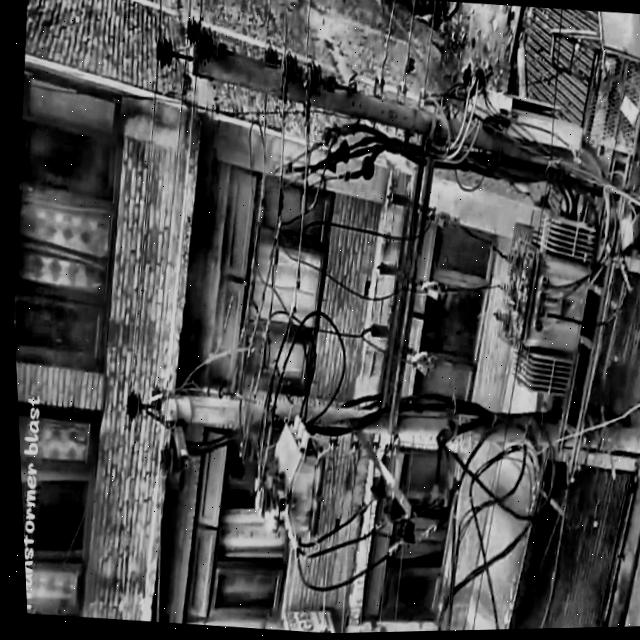Fire: (240, 476, 277, 537)
